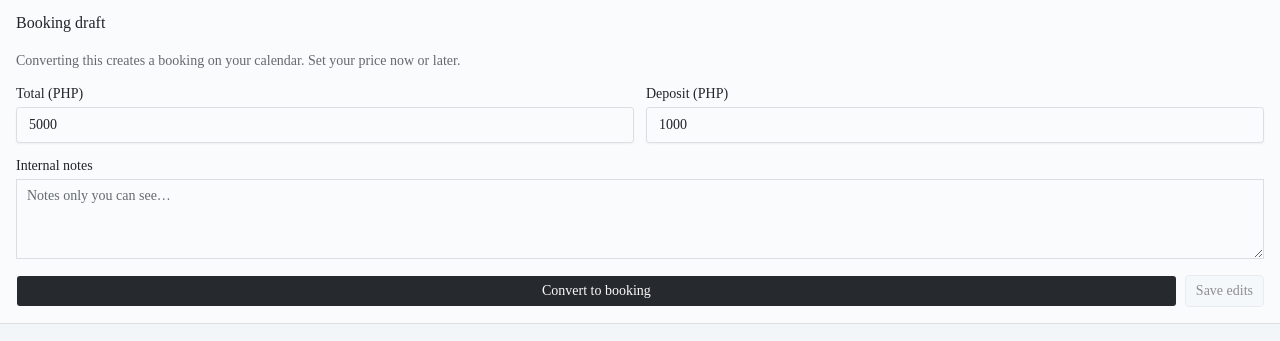
Test case: BookingDraftCard › renders editable fields and approves with current edits
What coordinates should you click on to do the following:
click the button "Convert to booking"
I would click on:
 (596, 291)
Its box is [16,275,1177,307].
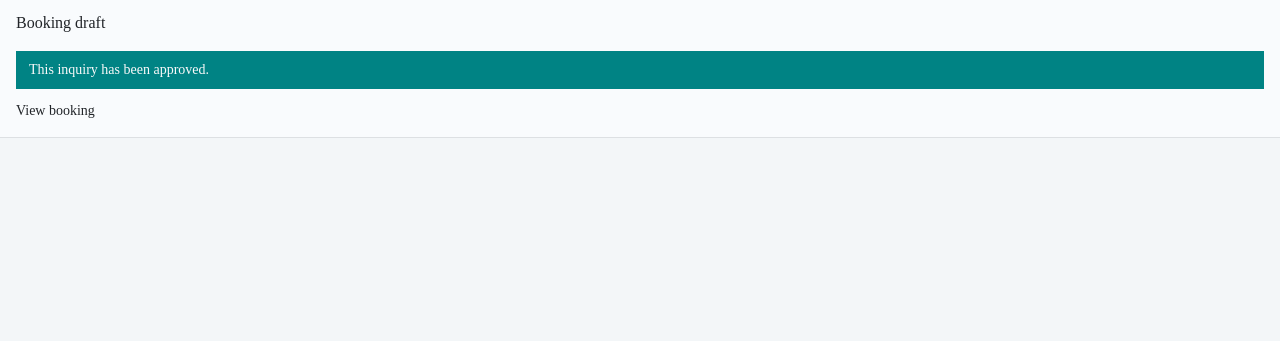
Expected: the text "This inquiry has been approved." is shown, [16,51,1264,89]
